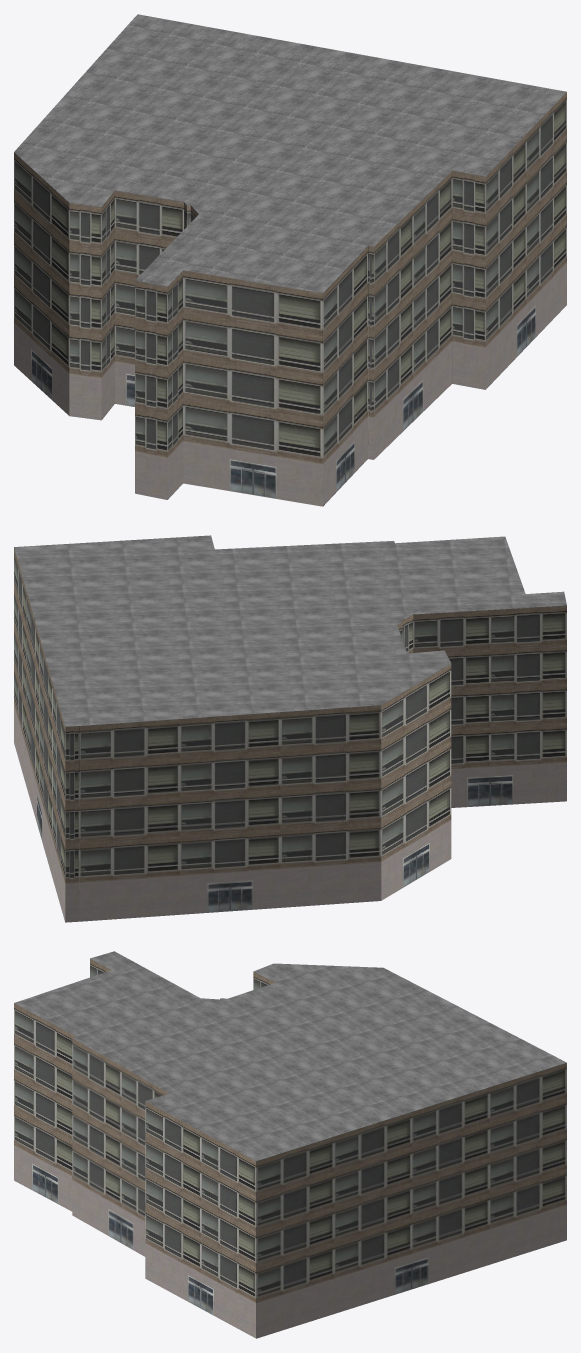
The picture shows the model from 3 angles, top to bottom: view 1: azimuth 30°, elevation 25°; view 2: azimuth 150°, elevation 25°; view 3: azimuth 270°, elevation 25°; orthographic projection. The views are drawn at different scales.
Parts seen in each view (by area): view 1: BuildingMaster_1977194101384462011700000000_0, BuildingMaster_1977194101384462011700000000_1; view 2: BuildingMaster_1977194101384462011700000000_0, BuildingMaster_1977194101384462011700000000_1; view 3: BuildingMaster_1977194101384462011700000000_0, BuildingMaster_1977194101384462011700000000_1.
Boxes of the visible parts, x1,y1,x2,y2 form: BuildingMaster_1977194101384462011700000000_0: (14,92,566,506); BuildingMaster_1977194101384462011700000000_1: (14,14,566,293); BuildingMaster_1977194101384462011700000000_0: (14,548,566,922); BuildingMaster_1977194101384462011700000000_1: (14,535,566,726); BuildingMaster_1977194101384462011700000000_0: (14,958,566,1338); BuildingMaster_1977194101384462011700000000_1: (14,951,566,1160).
Bounding box in the file's own units: 44.41 × 17.5 × 49.42.
Materials: 2 (2 with a texture image).
